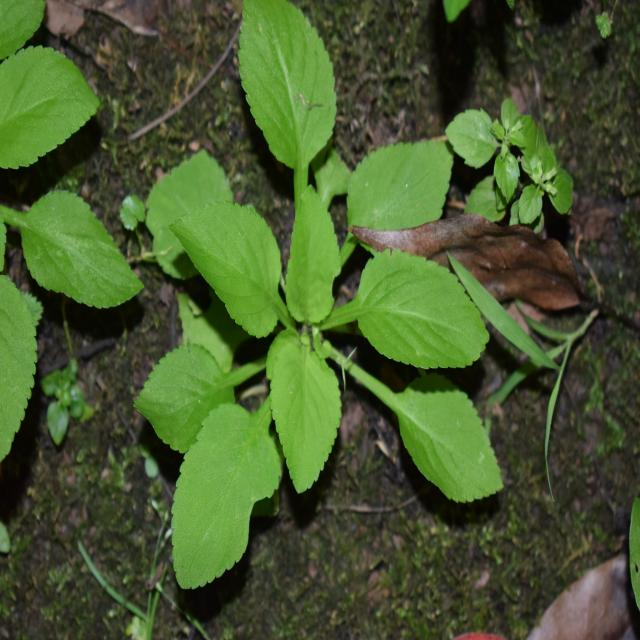Viola: (114, 19, 501, 518)
